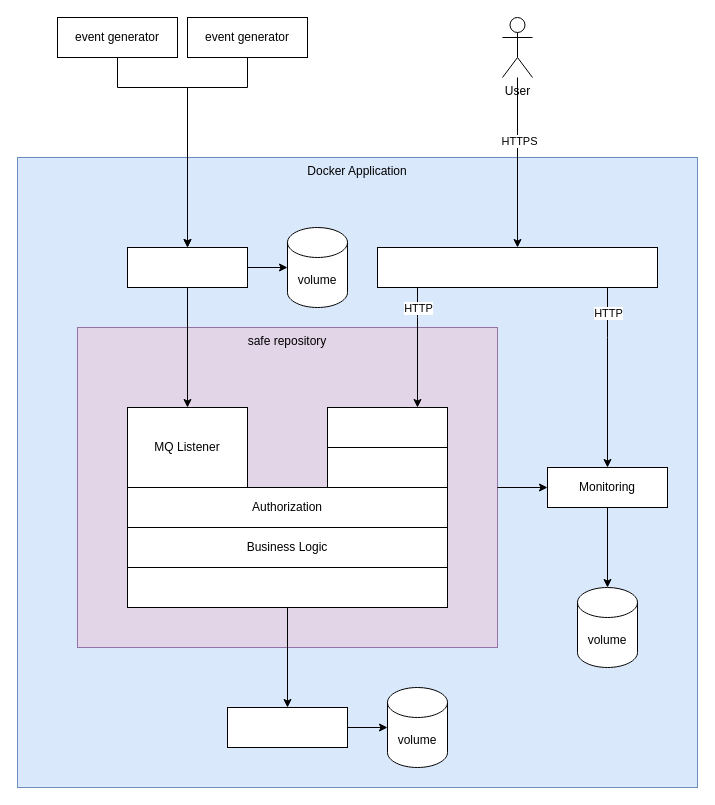
Image size: 715x805. Some labels were removed from this diagram. The centre of each missing label's shape, as x and y in pixels:
"Authentication" goes at (387,467).
"Database" goes at (287,727).
"HTTP proxy" goes at (517,267).
"MQ Broker" goes at (187,267).
"Persistence Logic" goes at (287,587).
"REST" goes at (387,427).
